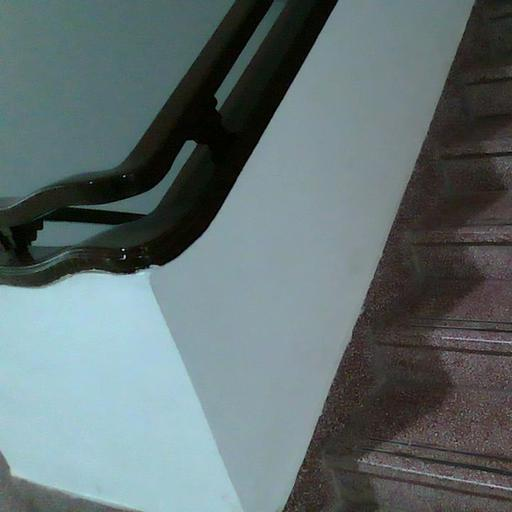Stairs: (284, 0, 512, 512)
